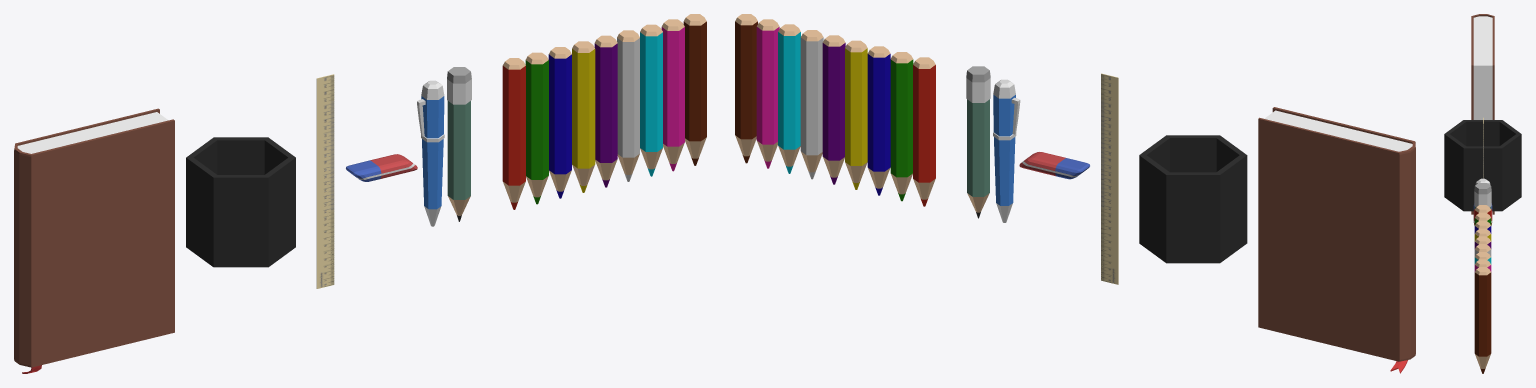
File: small_low-poly_school_set.glb
3 renders of one model, left to right at view 1: azimuth 30°, elevation 25°; view 2: azimuth 150°, elevation 25°; view 3: azimuth 270°, elevation 25°, orthographic. The views are drawn at different scales.
Parts seen in each view (by area): view 1: Book_6, Cup_5, Ruler_4, Pencil Black_7, Pencil Yellow_16, Pencil Red_14, Pencil Purple_13, Pencil Green_10, Pencil Light Blue_11, Pencil Blue_8, Pencil White_15, Pencil Pink_12 (+3 smaller); view 2: Book_6, Cup_5, Ruler_4, Pencil Black_7, Pencil Blue_8, Pencil Purple_13, Pencil Light Blue_11, Pencil Red_14, Pencil White_15, Pencil Green_10, Pencil Yellow_16, Pencil Pink_12 (+3 smaller); view 3: Cup_5, Book_6, Pencil Brown_9, Pencil Black_7, Pencil Blue_8, Pencil Green_10, Pencil Yellow_16, Pencil White_15, Pencil Red_14, Pencil Purple_13, Pencil Light Blue_11, Pencil Pink_12.
Part boxes in pixels (x1=…): Book_6: x1=14, y1=108, x2=174, y2=373; Cup_5: x1=186, y1=137, x2=295, y2=267; Ruler_4: x1=316, y1=74, x2=334, y2=288; Pencil Black_7: x1=447, y1=67, x2=471, y2=221; Pencil Yellow_16: x1=572, y1=41, x2=595, y2=192; Pencil Red_14: x1=502, y1=58, x2=525, y2=209; Pencil Purple_13: x1=594, y1=35, x2=617, y2=187; Pencil Green_10: x1=525, y1=52, x2=548, y2=204; Pencil Light Blue_11: x1=640, y1=24, x2=662, y2=176; Pencil Blue_8: x1=548, y1=47, x2=571, y2=198; Pencil White_15: x1=617, y1=30, x2=639, y2=181; Pencil Pink_12: x1=661, y1=19, x2=684, y2=171; Book_6: x1=1258, y1=107, x2=1415, y2=373; Cup_5: x1=1139, y1=135, x2=1247, y2=263; Ruler_4: x1=1101, y1=73, x2=1118, y2=284; Pencil Black_7: x1=966, y1=66, x2=990, y2=218; Pencil Blue_8: x1=867, y1=46, x2=890, y2=195; Pencil Purple_13: x1=822, y1=35, x2=845, y2=184; Pencil Light Blue_11: x1=778, y1=24, x2=800, y2=173; Pencil Red_14: x1=913, y1=57, x2=935, y2=206; Pencil White_15: x1=800, y1=30, x2=823, y2=179; Pencil Green_10: x1=890, y1=52, x2=913, y2=201; Pencil Yellow_16: x1=845, y1=40, x2=867, y2=189; Pencil Pink_12: x1=756, y1=19, x2=779, y2=168; Cup_5: x1=1444, y1=120, x2=1521, y2=211; Book_6: x1=1471, y1=14, x2=1494, y2=214; Pencil Brown_9: x1=1474, y1=267, x2=1491, y2=373; Pencil Black_7: x1=1474, y1=183, x2=1491, y2=209; Pencil Blue_8: x1=1474, y1=220, x2=1491, y2=233; Pencil Green_10: x1=1474, y1=212, x2=1491, y2=225; Pencil Yellow_16: x1=1474, y1=228, x2=1491, y2=241; Pencil White_15: x1=1474, y1=244, x2=1491, y2=256; Pencil Red_14: x1=1474, y1=205, x2=1491, y2=217; Pencil Purple_13: x1=1474, y1=236, x2=1491, y2=248; Pencil Light Blue_11: x1=1474, y1=252, x2=1491, y2=264; Pencil Pink_12: x1=1474, y1=259, x2=1491, y2=271.
Bounding box in the file's own units: 0.1023 × 0.0325 × 0.0142.
23 materials, 1 textured.
